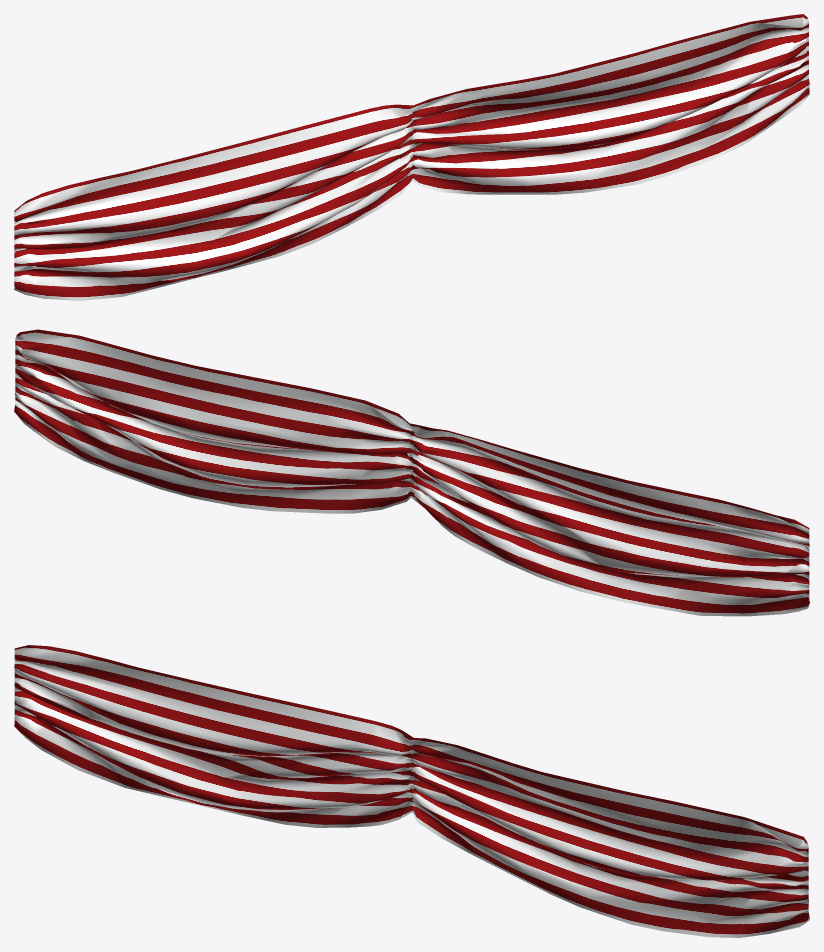
File: top.FBX
3 renders of one model, top to bottom at view 1: azimuth 30°, elevation 25°; view 2: azimuth 150°, elevation 25°; view 3: azimuth 330°, elevation 25°, orthographic.
Visible parts, largest first — view 1: top; view 2: top; view 3: top.
Part boxes in pixels (bbox=[...]): top: bbox=[14, 14, 809, 300]; top: bbox=[14, 329, 809, 616]; top: bbox=[14, 645, 809, 937].
Size of the model in its own units: 262 by 43.63 by 8.62.
